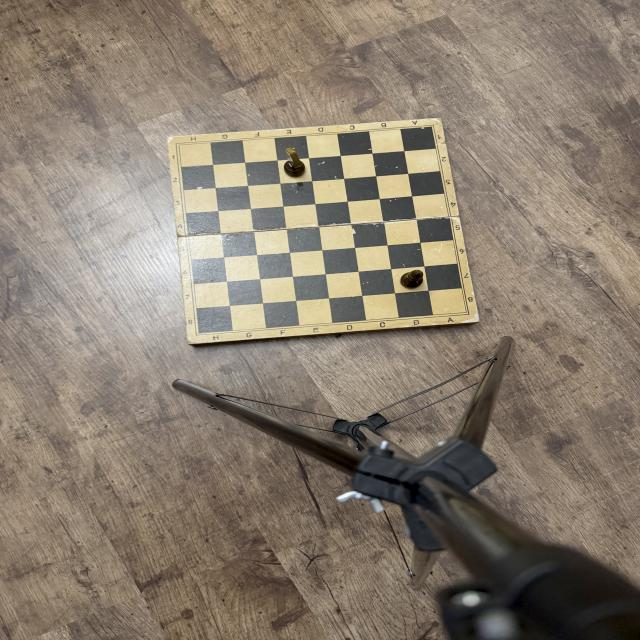black-bishop: (400, 270, 424, 290)
black-knight: (284, 147, 305, 177)
